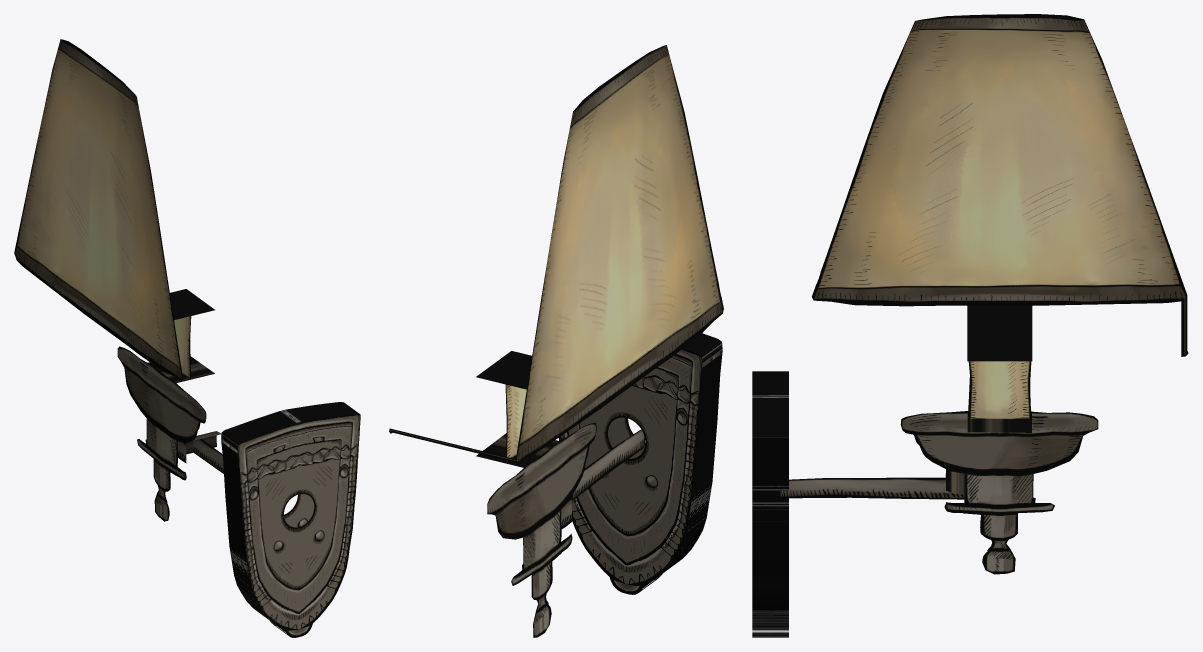
Rendered from Lamp_Wall.fbx.
3 views of the same model, side by side, from view 1: azimuth 30°, elevation 25°; view 2: azimuth 150°, elevation 25°; view 3: azimuth 270°, elevation 25° (orthographic). The views are drawn at different scales.
Visible parts, largest first — view 1: Lamp_Wall_side, Lamp_Wall_front; view 2: Lamp_Wall_side, Lamp_Wall_front; view 3: Lamp_Wall_side, Lamp_Wall_front.
Part boxes in pixels (x1=…): Lamp_Wall_side: x1=14, y1=39, x2=223, y2=521; Lamp_Wall_front: x1=221, y1=402, x2=360, y2=637; Lamp_Wall_side: x1=389, y1=45, x2=723, y2=637; Lamp_Wall_front: x1=558, y1=333, x2=722, y2=594; Lamp_Wall_side: x1=778, y1=14, x2=1188, y2=574; Lamp_Wall_front: x1=752, y1=371, x2=788, y2=637.
Size of the model in its own units: 29.43 by 95.98 by 66.22.
Materials: 2 (2 with a texture image).
